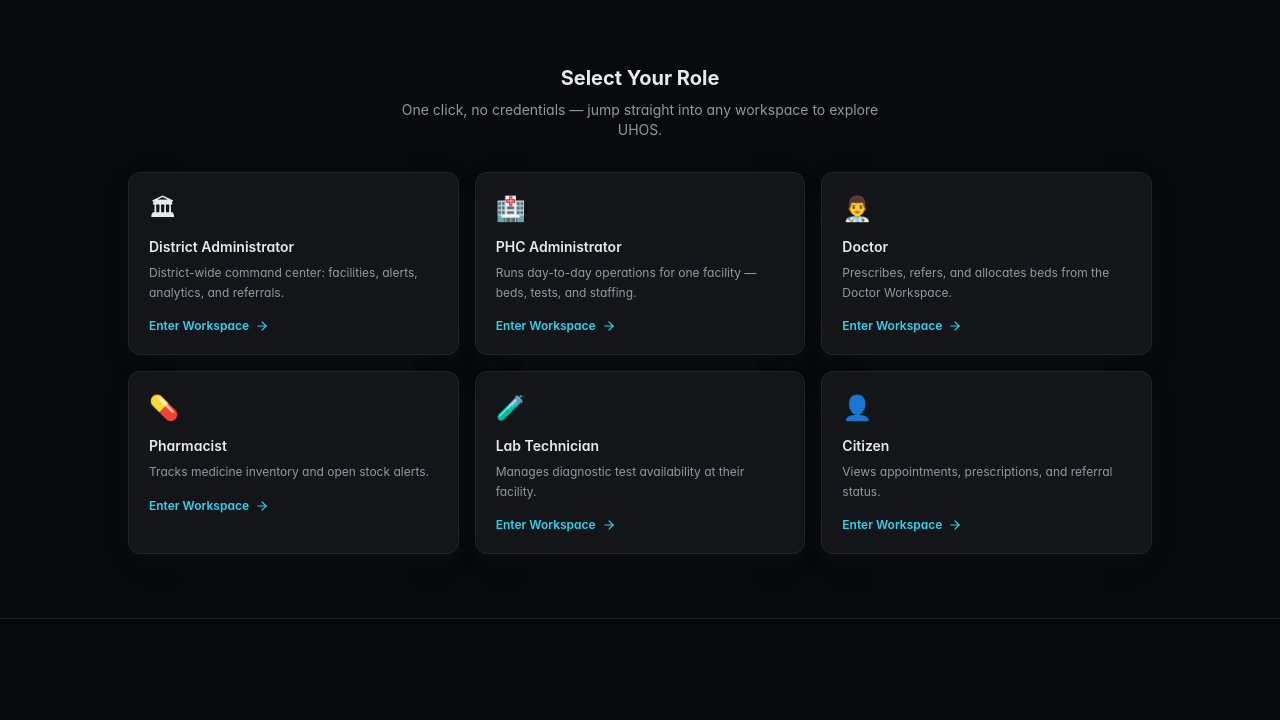
Test: Demo Mode — role selection cards › disables all cards while one demo login is pending
The image size is (1280, 720).
Click the button "Pharmacist".
click(293, 462)  # box x1=128 y1=371 x2=459 y2=554
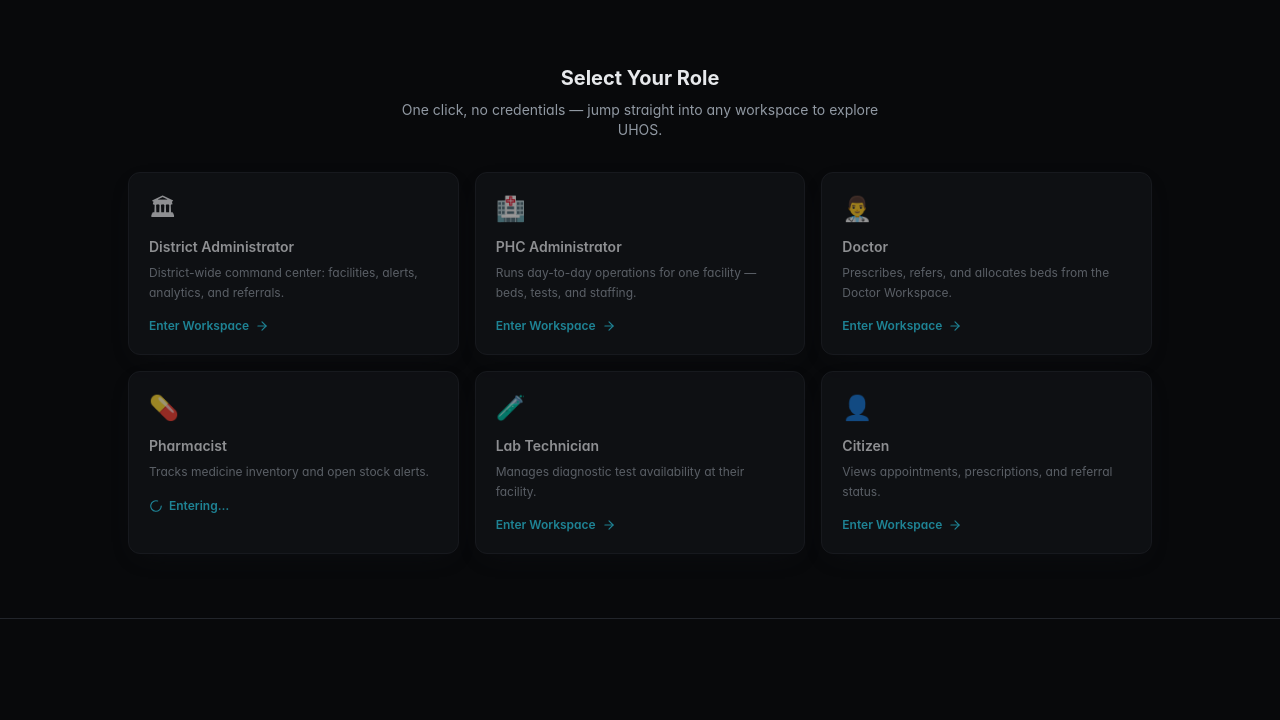
Result: the button "Doctor" is disabled at x1=821 y1=172 x2=1152 y2=355
